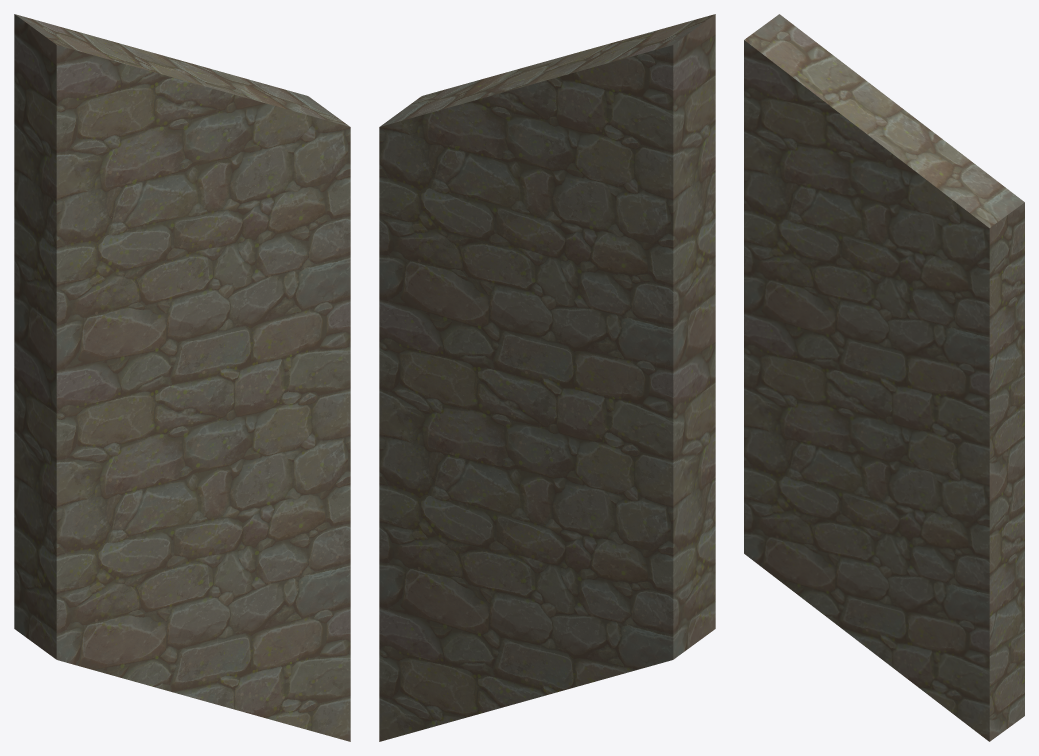
Rendered from SM_FW01_Ruins_Int_Wall_Stairs_2x4_02.fbx.
3 renders of one model, left to right at view 1: azimuth 30°, elevation 25°; view 2: azimuth 150°, elevation 25°; view 3: azimuth 330°, elevation 25°, orthographic. The views are drawn at different scales.
Visible parts, largest first — view 1: SM_FW01_Ruins_Int_Wall_Stairs_2x4_02; view 2: SM_FW01_Ruins_Int_Wall_Stairs_2x4_02; view 3: SM_FW01_Ruins_Int_Wall_Stairs_2x4_02.
Part boxes in pixels (x1,y1,x2,y2): SM_FW01_Ruins_Int_Wall_Stairs_2x4_02: (14, 14, 350, 741); SM_FW01_Ruins_Int_Wall_Stairs_2x4_02: (379, 14, 715, 741); SM_FW01_Ruins_Int_Wall_Stairs_2x4_02: (744, 14, 1024, 741).
Bounding box in the file's own units: 2 × 5 × 0.5.
